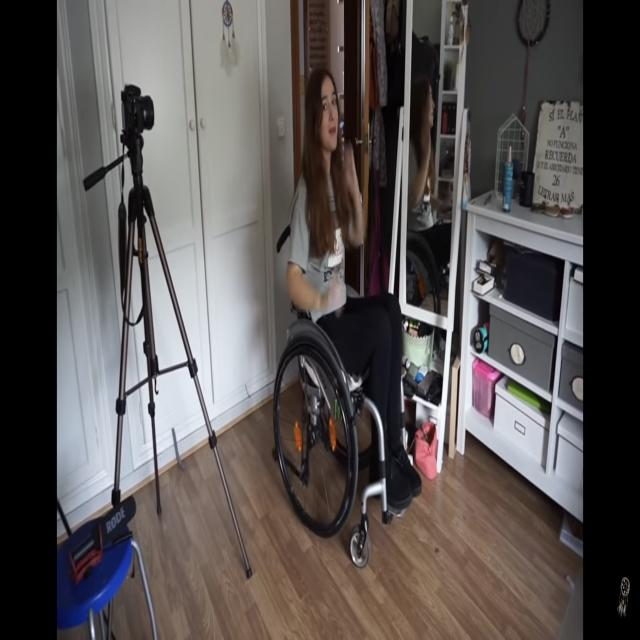wheelchairs: (271, 218, 424, 572)
